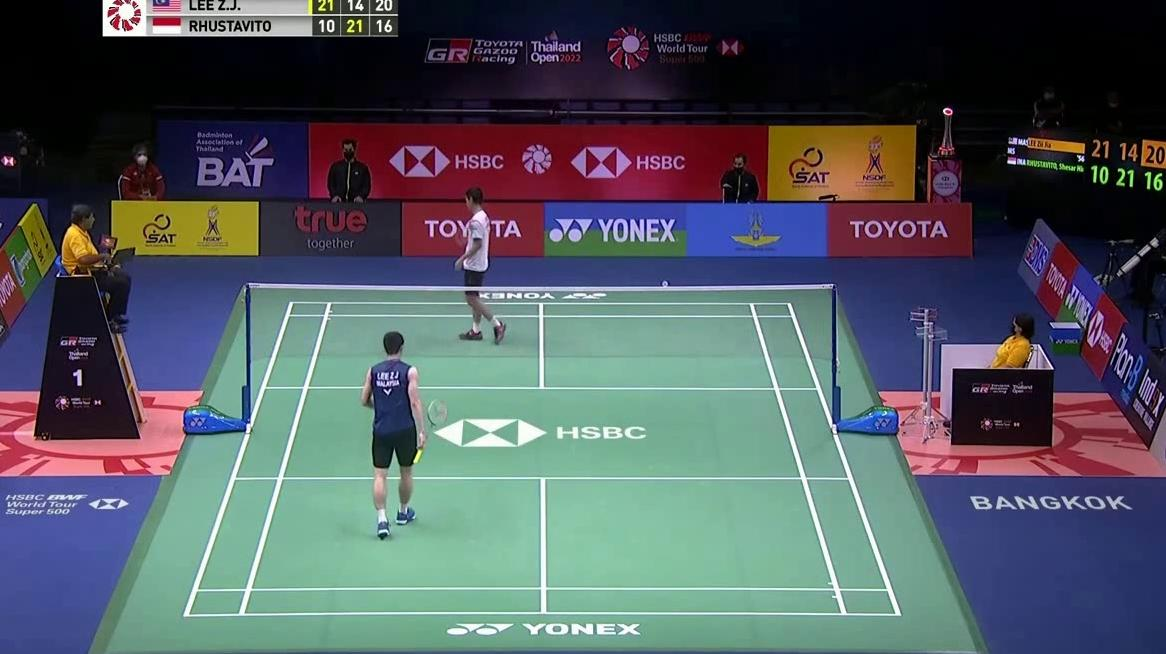racket: (412, 396, 449, 464), (450, 224, 472, 248)
shuttle: (659, 275, 671, 293)
